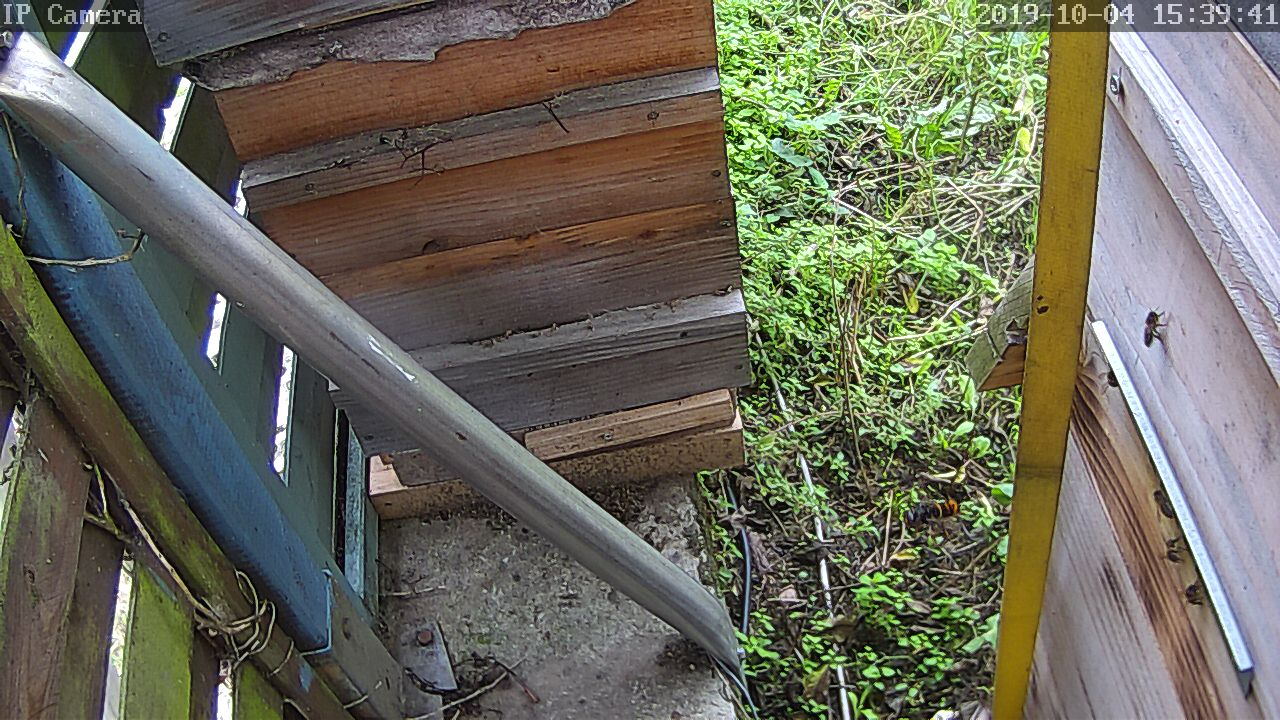bee: (1150, 484, 1181, 526), (1174, 580, 1212, 614), (1160, 535, 1192, 567), (1098, 365, 1124, 396)
hornet: (904, 489, 965, 535), (1138, 302, 1175, 357)
